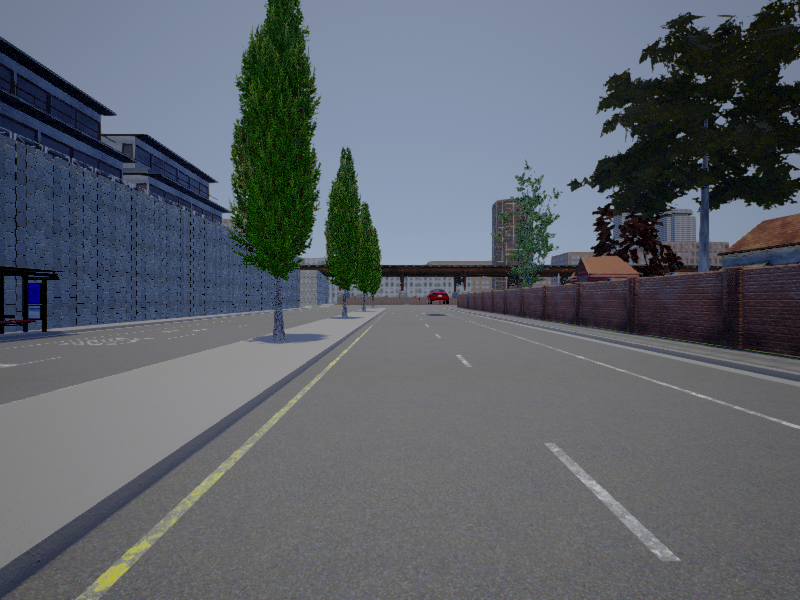Attacker: (428, 289, 451, 304)
